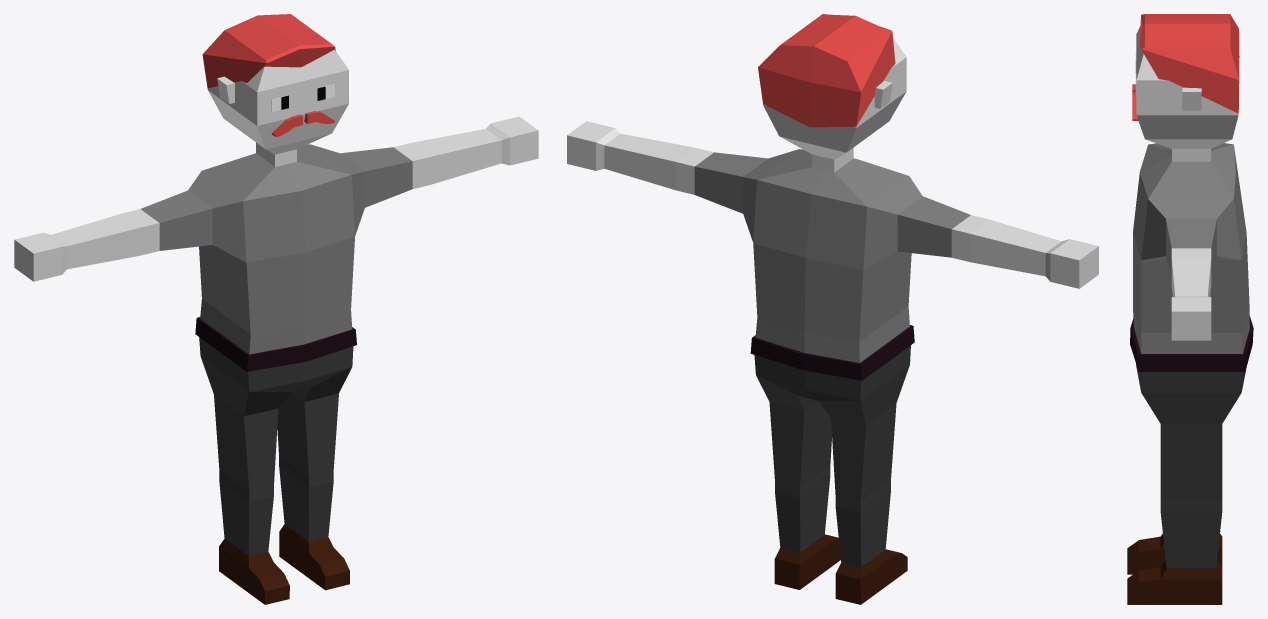
File: grian.fbx
3 views of the same model, side by side, from view 1: azimuth 30°, elevation 25°; view 2: azimuth 150°, elevation 25°; view 3: azimuth 270°, elevation 25° (orthographic). The views are drawn at different scales.
Visible parts, largest first — view 1: grianAlive; view 2: grianAlive; view 3: grianAlive.
Part boxes in pixels (bbox=[...]): grianAlive: bbox=[14, 14, 538, 604]; grianAlive: bbox=[567, 14, 1098, 604]; grianAlive: bbox=[1127, 14, 1253, 604].
Bounding box in the file's own units: 207 × 213 × 43.47.
